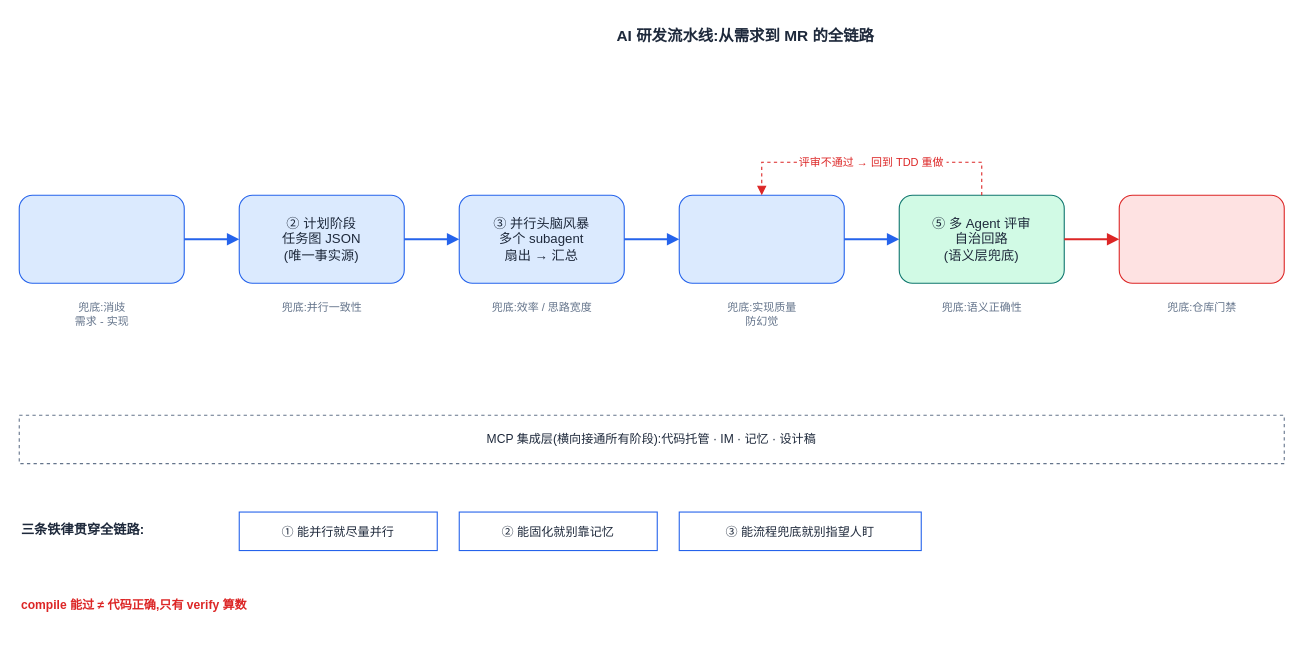
Some shapes in this 1304 by 648 pixel diagram are drawn without their labels. The box of each missing label's shape, as (x1, y1, x2, y2) in pixels:
① 确认需求 出 HTML 原型: (18, 194, 184, 283)
④ TDD 执行 红 / 绿 / 重构 先写测试: (678, 194, 844, 283)
⑥ 提交 / MR 硬测试门禁: (1118, 194, 1284, 283)
